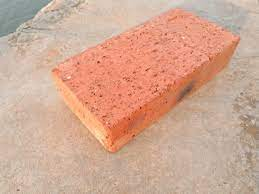brick: (48, 5, 244, 154)
